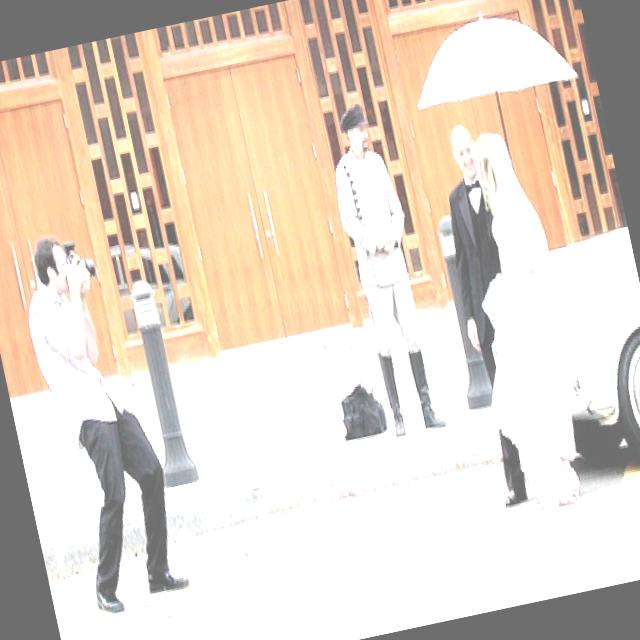Vehicle: (532, 217, 640, 477)
